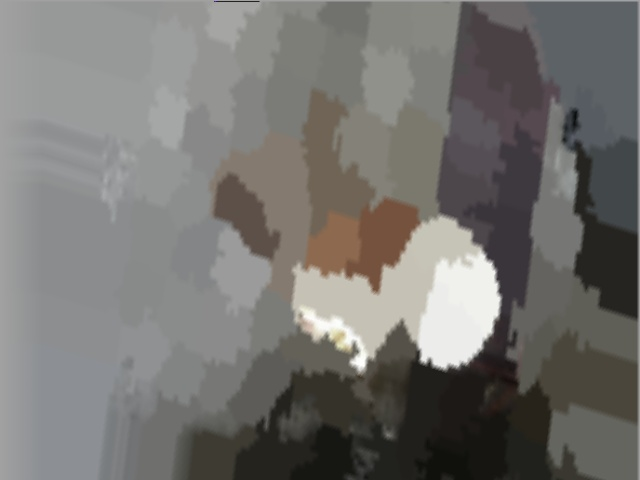eight: (419, 252, 461, 319)
